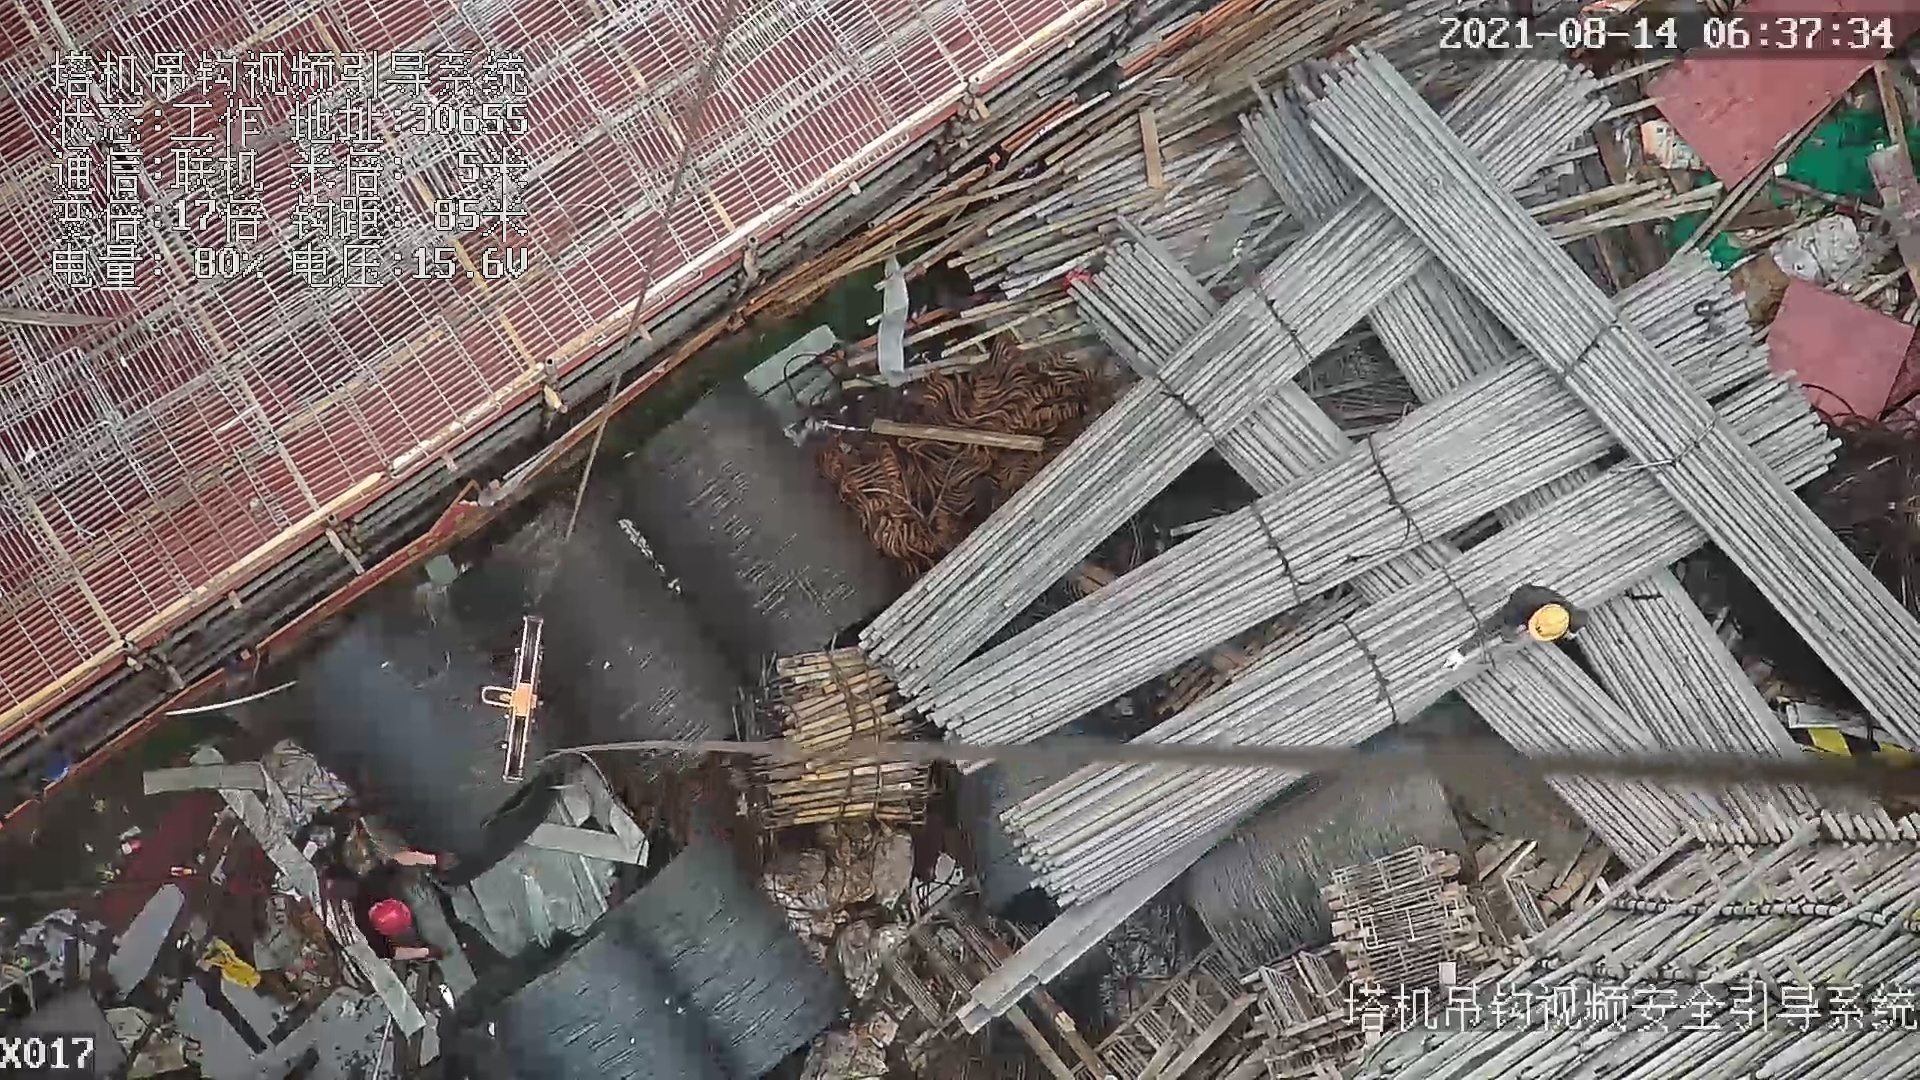helmet: (359, 895, 417, 944), (1522, 601, 1579, 644)
hook: (482, 606, 545, 792)
person: (351, 841, 463, 967), (1444, 572, 1594, 665)
scaffold: (933, 53, 1901, 839), (724, 641, 951, 842)
